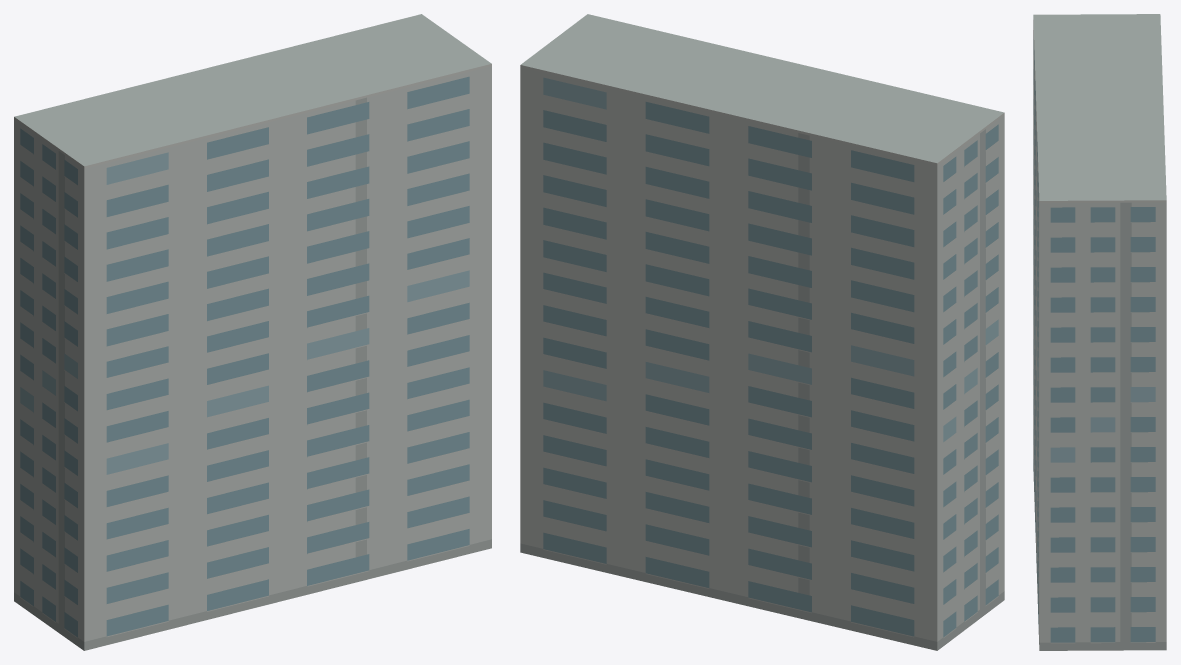
The model's file is residential-37ebb89c-316b-4c92-ad2a-3a382b4feed5.glb.
The picture shows the model from 3 angles, left to right: view 1: azimuth 30°, elevation 25°; view 2: azimuth 150°, elevation 25°; view 3: azimuth 270°, elevation 25°; orthographic projection. The views are drawn at different scales.
Visible parts, largest first — view 1: residential-37ebb89c-316b-4c92-ad2a-3a382b4feed5.tmp; view 2: residential-37ebb89c-316b-4c92-ad2a-3a382b4feed5.tmp; view 3: residential-37ebb89c-316b-4c92-ad2a-3a382b4feed5.tmp.
Part boxes in pixels (x1=…): residential-37ebb89c-316b-4c92-ad2a-3a382b4feed5.tmp: x1=14, y1=14, x2=491, y2=650; residential-37ebb89c-316b-4c92-ad2a-3a382b4feed5.tmp: x1=520, y1=14, x2=1004, y2=650; residential-37ebb89c-316b-4c92-ad2a-3a382b4feed5.tmp: x1=1033, y1=14, x2=1166, y2=650.
Size of the model in its own units: 43.68 by 49 by 13.17.
